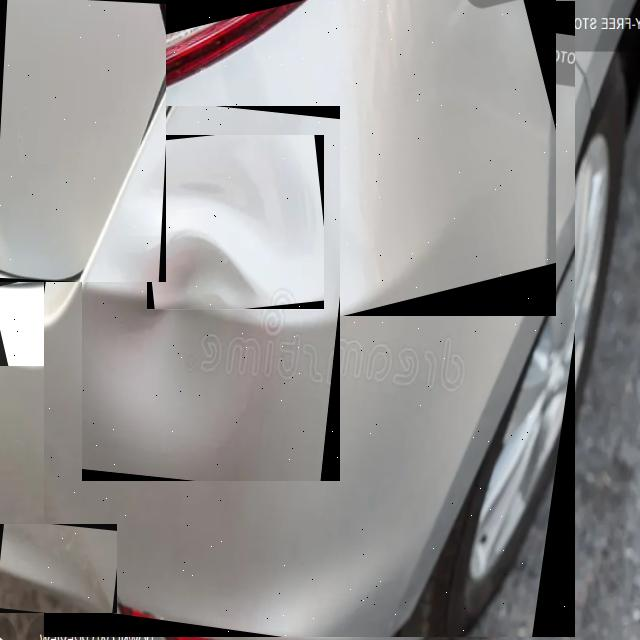Dent: (44, 13, 574, 635), (88, 21, 541, 443), (88, 6, 543, 314), (130, 0, 546, 315), (82, 116, 339, 474), (88, 26, 404, 315), (85, 124, 332, 480), (0, 0, 165, 280), (102, 135, 337, 314), (82, 300, 266, 483), (147, 135, 321, 308), (150, 133, 314, 255), (0, 524, 110, 612), (148, 230, 251, 309), (0, 278, 73, 365)
